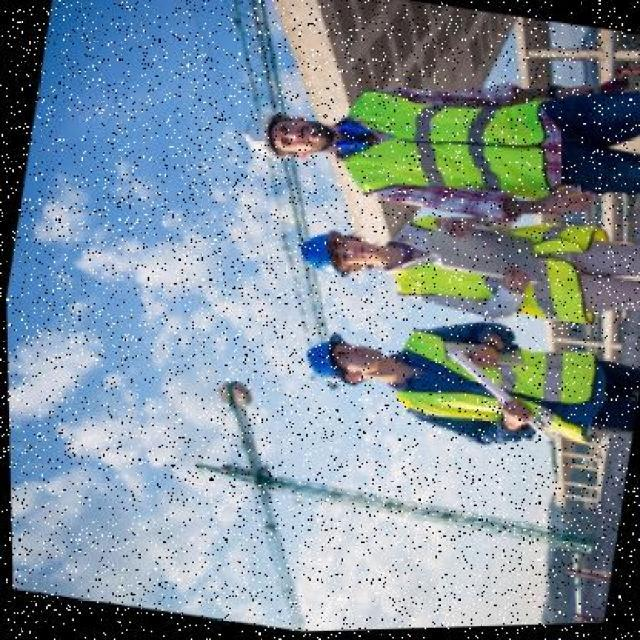helmet: (297, 326, 381, 396), (229, 102, 311, 168), (291, 218, 363, 284)
vest: (329, 57, 583, 231), (375, 196, 611, 340), (381, 315, 603, 453)
